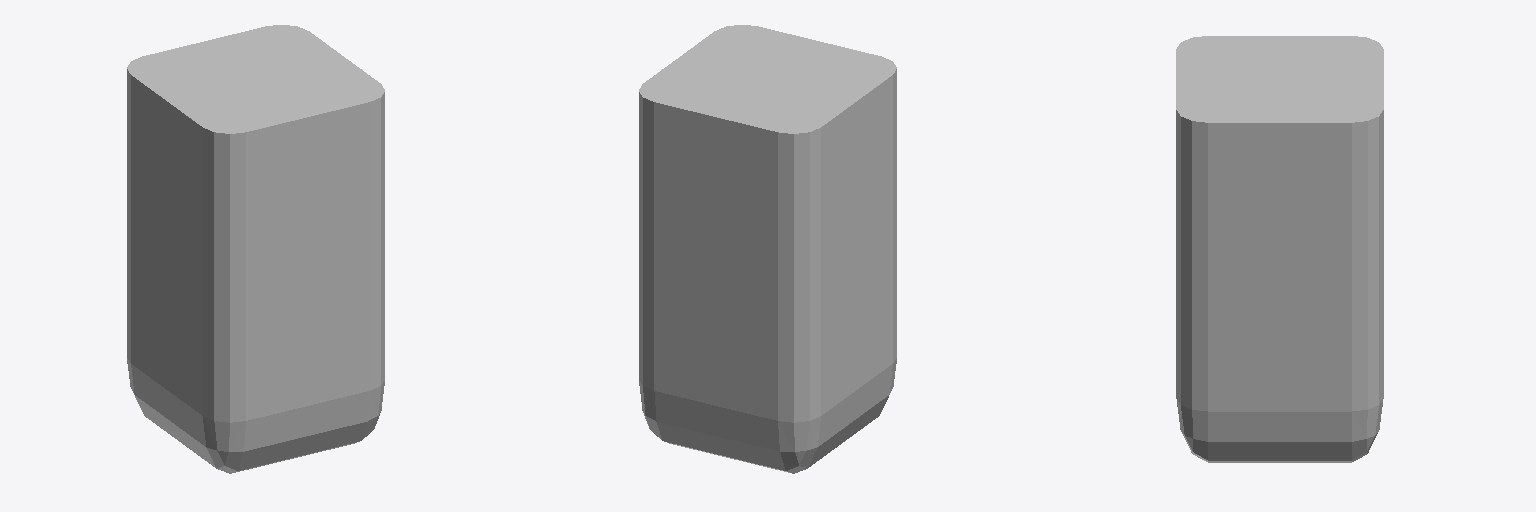
File: bouteille_contenu.obj
3 renders of one model, left to right at view 1: azimuth 30°, elevation 25°; view 2: azimuth 150°, elevation 25°; view 3: azimuth 270°, elevation 25°, orthographic.
Parts seen in each view (by area): view 1: Cube.001; view 2: Cube.001; view 3: Cube.001.
Part boxes in pixels (bbox=[...]): Cube.001: bbox=[127, 25, 384, 473]; Cube.001: bbox=[639, 25, 896, 473]; Cube.001: bbox=[1176, 36, 1383, 462].
Size of the model in its own units: 0.7426 by 1.41 by 0.7473.